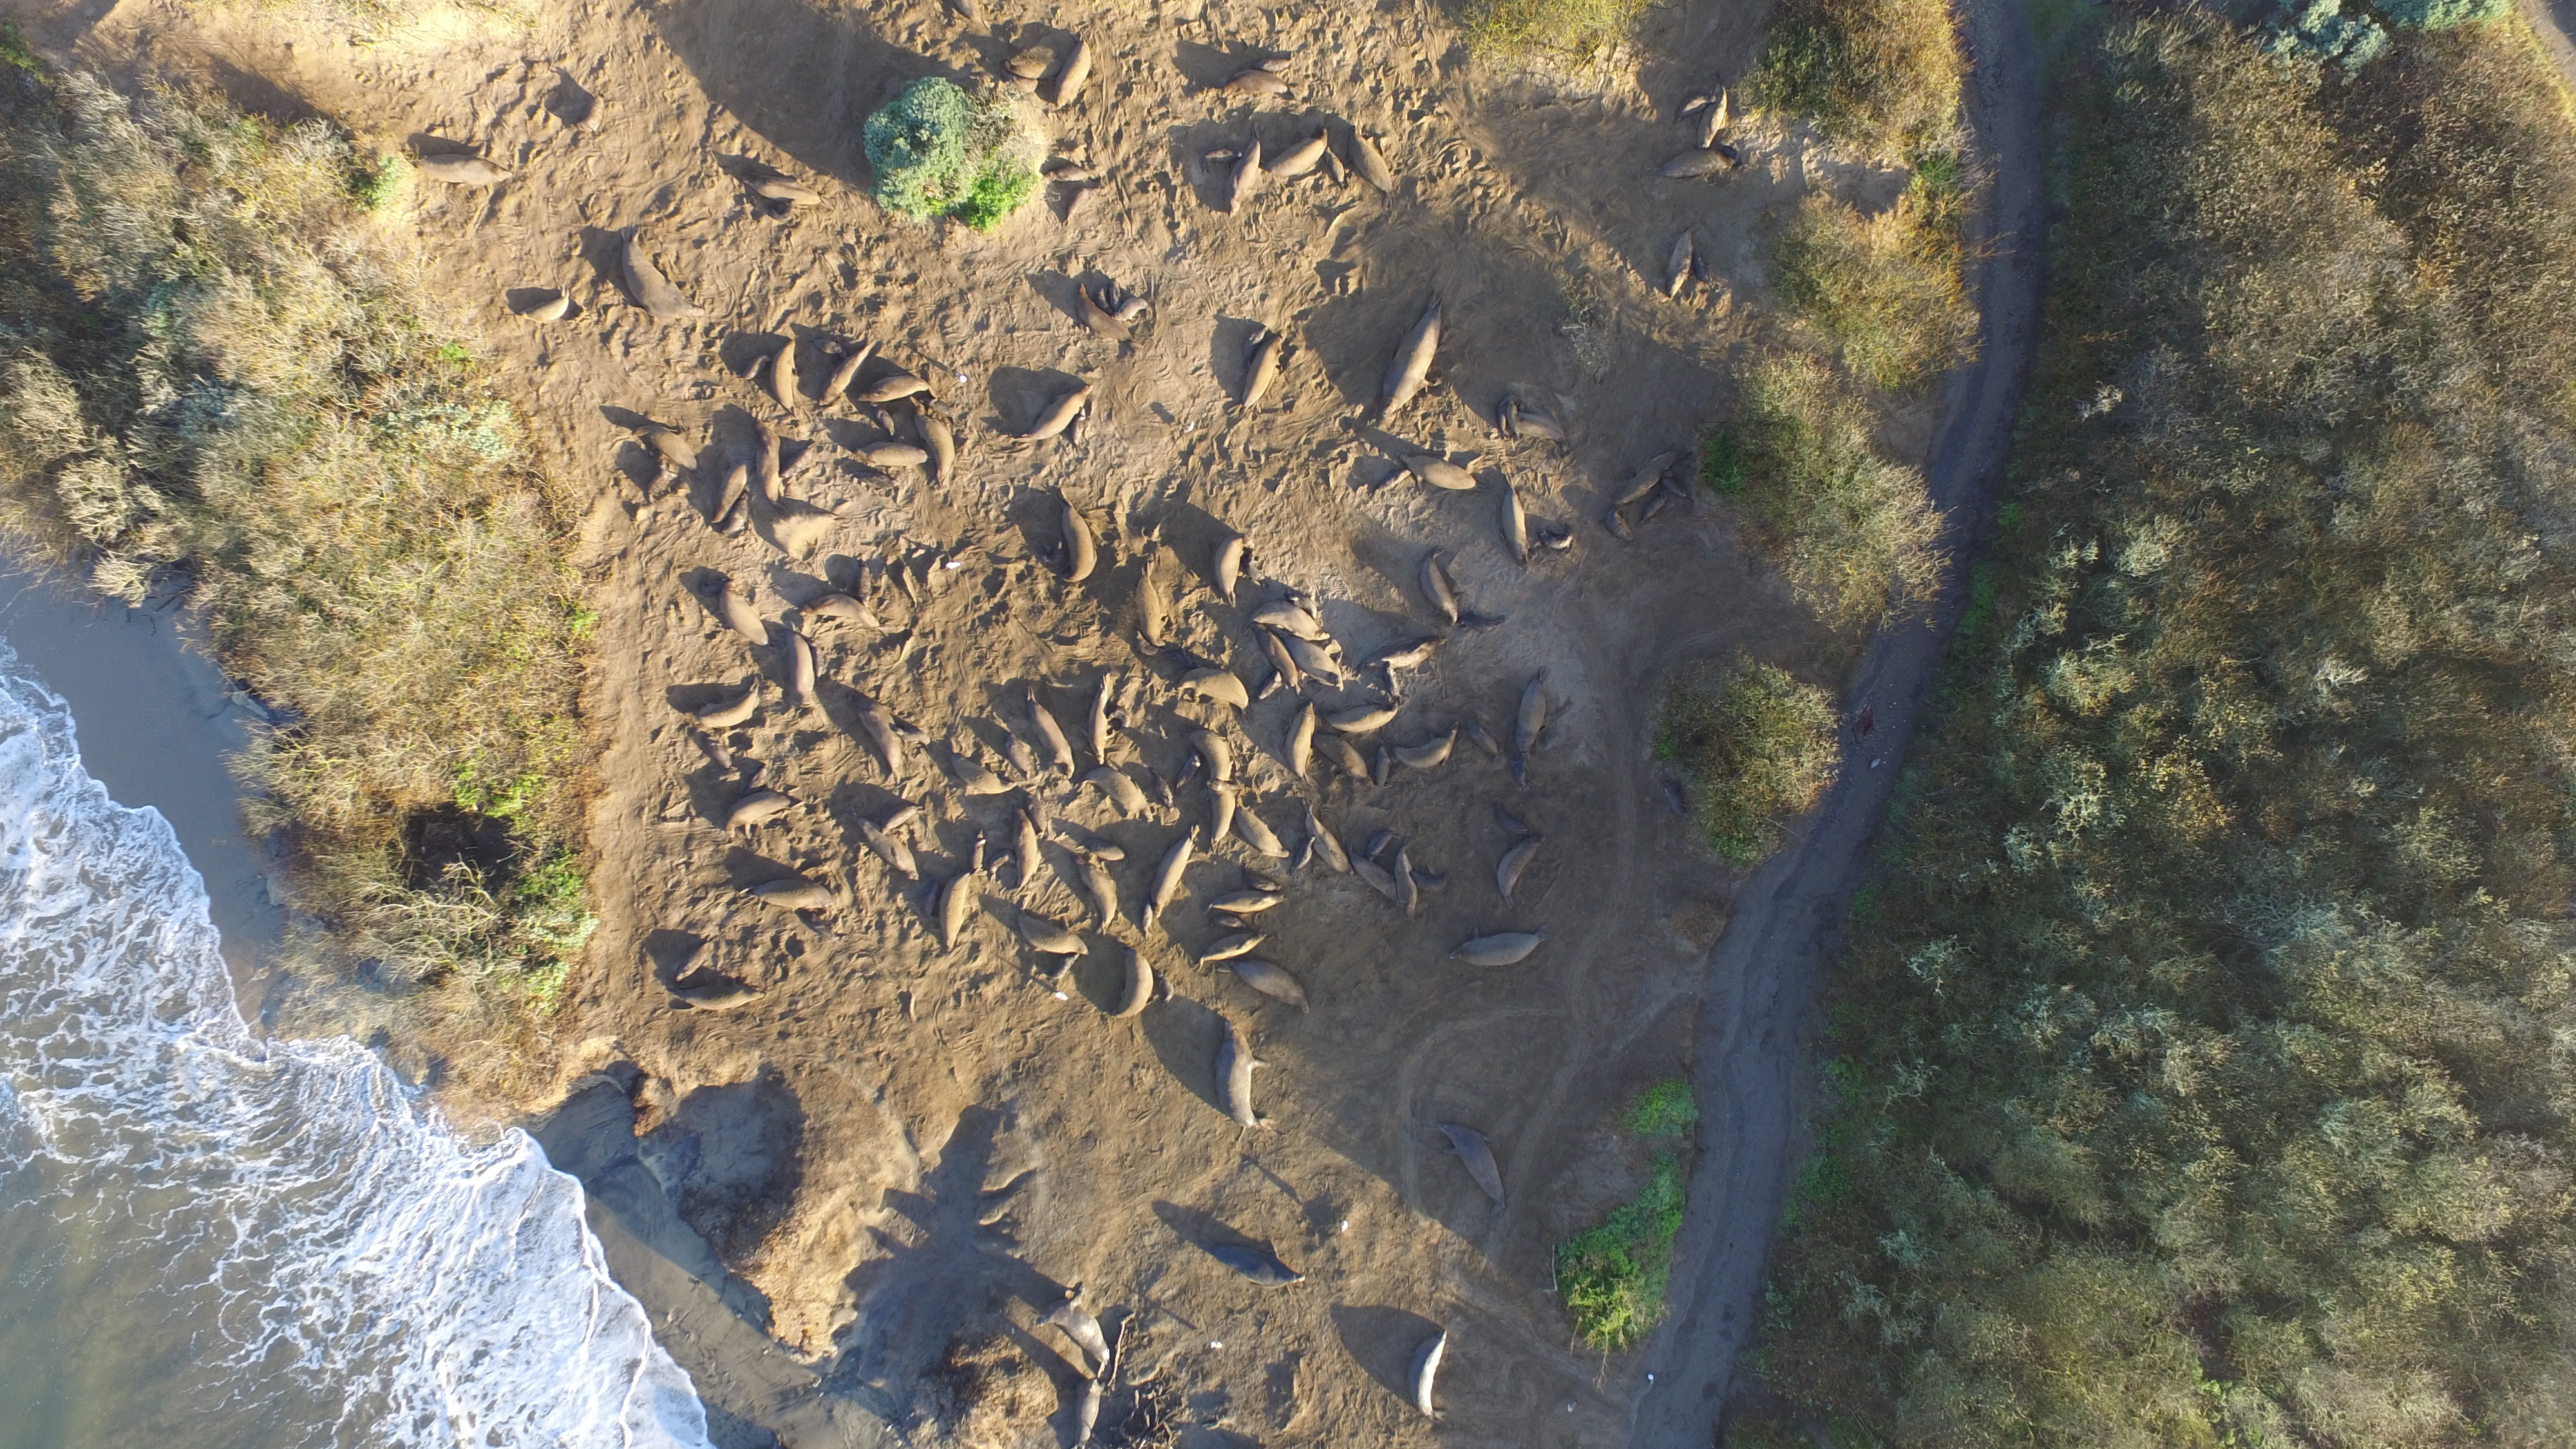adult male: (625, 246, 708, 320), (1384, 308, 1437, 419)
male juvenile / female juvenile / adult female: (1442, 1129, 1507, 1215), (1219, 1030, 1267, 1134), (1224, 961, 1320, 1012), (1012, 386, 1088, 444), (1054, 495, 1095, 594), (1210, 1247, 1307, 1288), (1276, 632, 1345, 688), (1240, 336, 1286, 419), (1063, 292, 1134, 345), (1608, 456, 1690, 502), (1054, 1304, 1111, 1369), (1081, 771, 1155, 821), (633, 421, 702, 474), (717, 579, 768, 649), (1352, 127, 1403, 198), (1031, 699, 1076, 778), (819, 341, 878, 402), (855, 702, 901, 773), (860, 823, 916, 876), (1157, 837, 1192, 918), (694, 683, 761, 724), (1500, 840, 1541, 908), (720, 803, 796, 839), (1131, 568, 1164, 648), (1228, 138, 1261, 218), (1315, 740, 1368, 789), (754, 173, 840, 203), (1191, 724, 1231, 787), (1256, 630, 1299, 690), (1237, 807, 1286, 858), (423, 154, 518, 180), (1272, 134, 1327, 180), (1444, 941, 1545, 966), (1352, 858, 1403, 906), (922, 416, 955, 488), (1054, 44, 1088, 117), (947, 752, 1012, 789), (1403, 456, 1479, 488), (1398, 727, 1460, 766), (1023, 918, 1093, 952), (1113, 955, 1148, 1023), (1180, 672, 1244, 709), (1307, 816, 1348, 872), (1518, 676, 1546, 757), (711, 464, 747, 527), (1514, 409, 1569, 449), (1254, 603, 1323, 635), (805, 600, 881, 628), (1661, 161, 1748, 186), (1079, 865, 1113, 929), (1290, 709, 1316, 789), (747, 886, 842, 908), (787, 632, 812, 713), (1428, 550, 1456, 621), (1200, 938, 1269, 966), (1502, 481, 1525, 563), (1362, 649, 1454, 669), (947, 879, 971, 950), (1702, 88, 1734, 143), (860, 442, 925, 469), (1223, 76, 1302, 97), (1665, 234, 1691, 297), (1327, 713, 1405, 734), (863, 387, 939, 409), (1398, 853, 1421, 922), (671, 987, 770, 1003), (1016, 816, 1035, 893), (1426, 1332, 1442, 1426), (1208, 897, 1290, 915), (1217, 540, 1237, 605), (1095, 681, 1111, 761), (1212, 789, 1231, 849), (1010, 58, 1069, 78), (777, 341, 789, 423), (1083, 1380, 1095, 1449), (950, 4, 984, 25)
pup: (674, 945, 711, 980), (1062, 189, 1092, 225), (580, 97, 607, 134), (1175, 754, 1200, 793), (1536, 522, 1573, 547), (1468, 725, 1497, 757), (527, 303, 573, 322), (1085, 839, 1123, 862), (1373, 748, 1394, 789), (1675, 94, 1713, 117), (1493, 809, 1525, 835), (1046, 163, 1092, 180), (1329, 152, 1352, 188), (1373, 474, 1410, 495), (1384, 667, 1405, 702), (1242, 869, 1276, 890), (704, 736, 729, 764), (1293, 840, 1313, 876), (747, 764, 770, 793), (1414, 872, 1449, 890), (732, 504, 752, 536), (1113, 304, 1152, 320), (1290, 593, 1316, 616), (1129, 637, 1157, 658), (895, 729, 932, 745), (646, 474, 671, 497), (1247, 326, 1270, 350), (885, 810, 920, 826), (1054, 959, 1076, 985), (1366, 837, 1392, 858), (1499, 400, 1513, 439), (1665, 780, 1681, 814), (1463, 616, 1506, 628), (1610, 515, 1629, 541), (1644, 501, 1663, 527), (817, 336, 844, 354), (1157, 777, 1173, 805), (1693, 257, 1707, 288), (989, 856, 1012, 876), (1200, 152, 1233, 165), (747, 359, 764, 380), (1016, 734, 1024, 777), (1258, 679, 1276, 701), (1665, 478, 1683, 499), (855, 563, 867, 593), (1217, 916, 1247, 929), (1256, 58, 1290, 69), (1247, 559, 1261, 584), (1514, 757, 1527, 786), (878, 412, 895, 432), (1097, 287, 1109, 310), (1161, 977, 1171, 1003), (1109, 283, 1120, 306), (1721, 145, 1739, 156)
